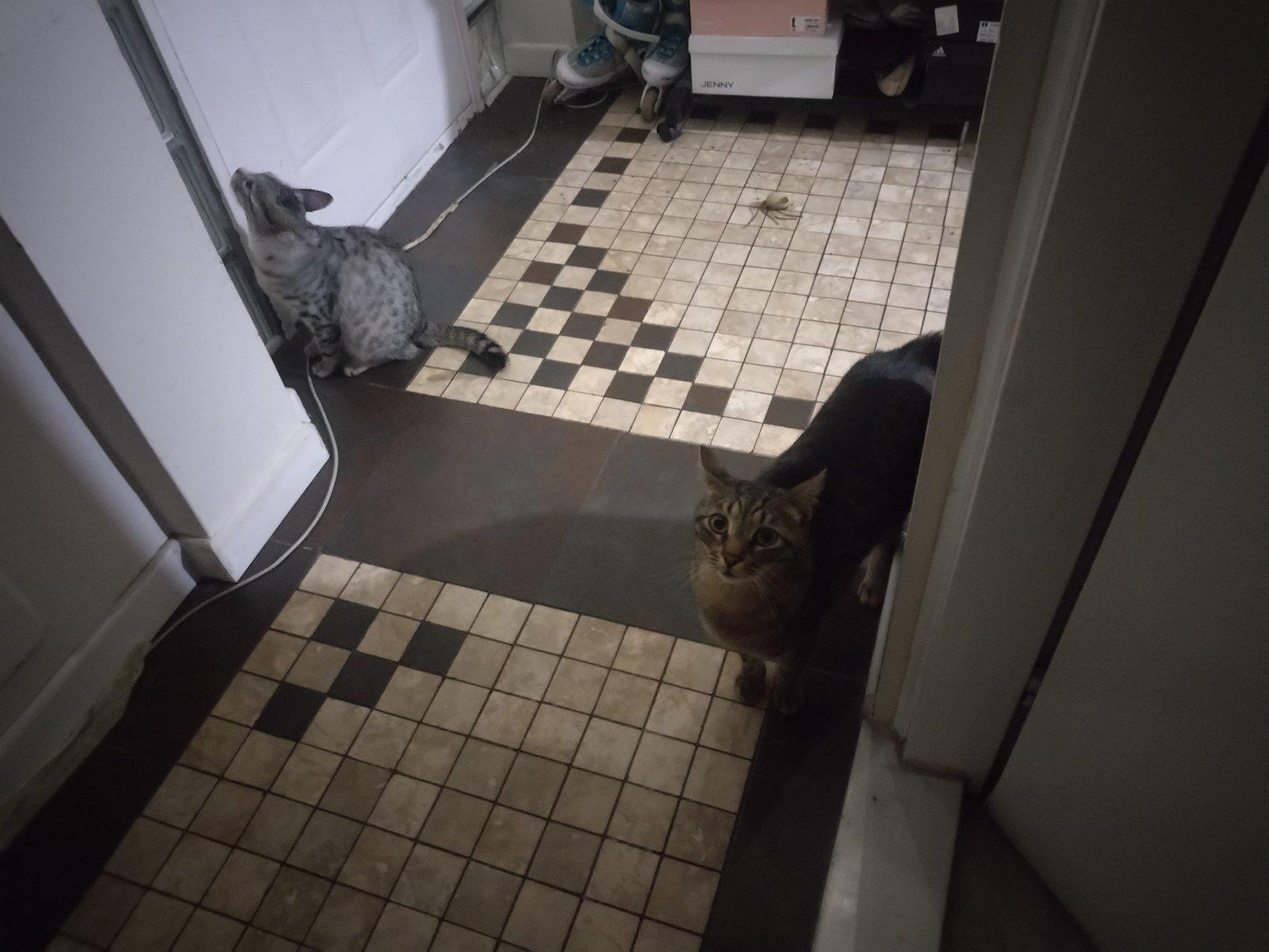macka: (689, 331, 950, 706), (229, 167, 512, 375)
